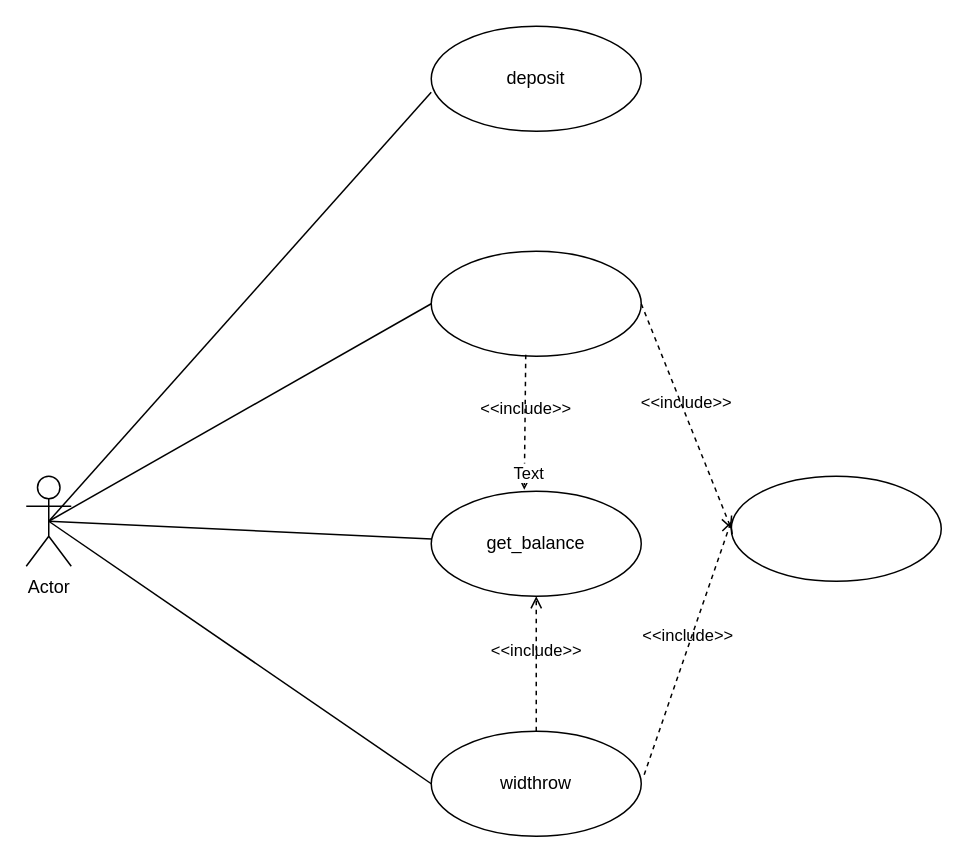
This 968x863 diagram has some shape labels left out. The centre of each missing label's shape, as x and y in pixels:
"confirm_password" belongs at (x=835, y=528).
"transmission" belongs at (x=535, y=303).
